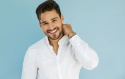male: (32, 3, 68, 42)
